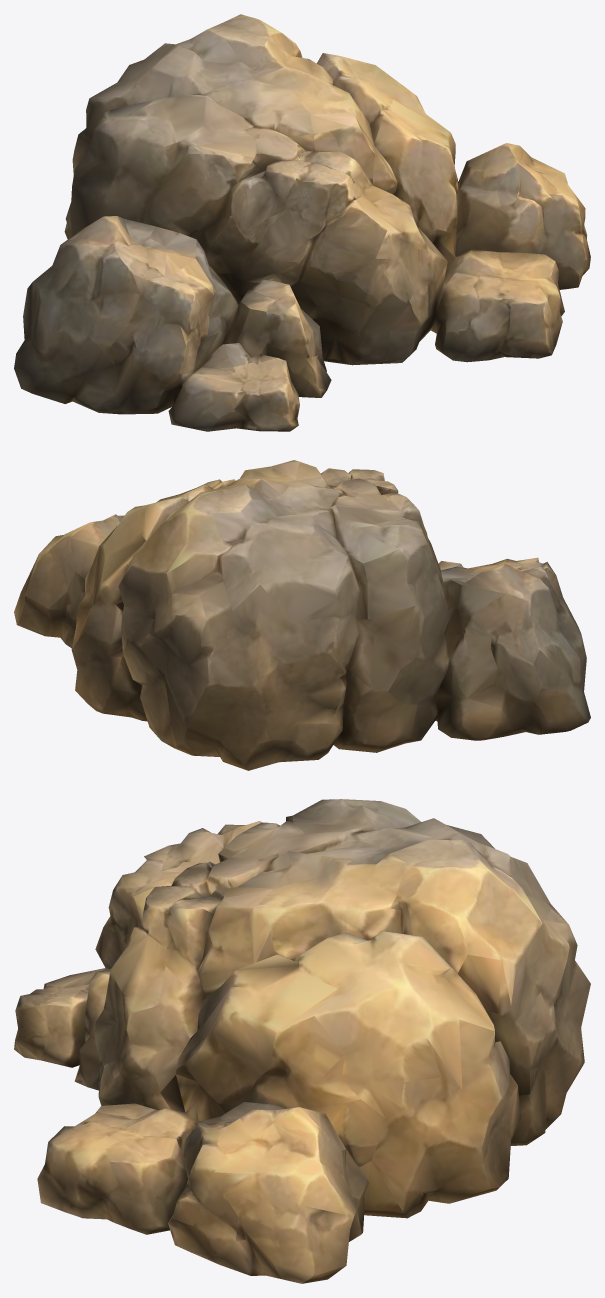
File: rocks.glb
3 views of the same model, one above another, from view 1: azimuth 30°, elevation 25°; view 2: azimuth 150°, elevation 25°; view 3: azimuth 270°, elevation 25° (orthographic). The views are drawn at different scales.
Parts seen in each view (by area): view 1: rocks; view 2: rocks; view 3: rocks.
Part boxes in pixels (x1=…): rocks: x1=14, y1=14, x2=590, y2=431; rocks: x1=14, y1=460, x2=590, y2=770; rocks: x1=14, y1=799, x2=590, y2=1283.
Size of the model in its own units: 0.9793 by 0.3803 by 0.724.
Materials: 1 (1 with a texture image).
